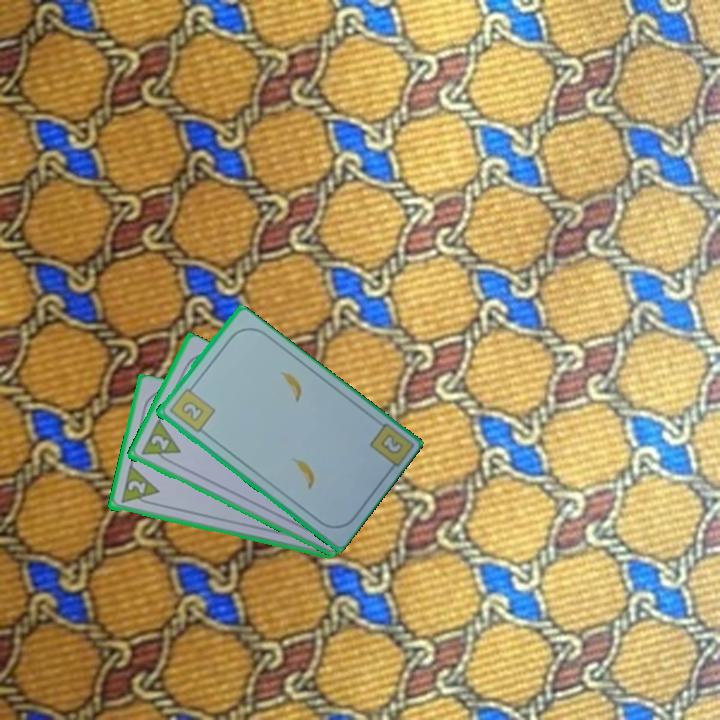2b: (165, 381, 217, 435), (376, 430, 406, 457)
2p: (147, 432, 172, 453), (124, 477, 149, 497)
